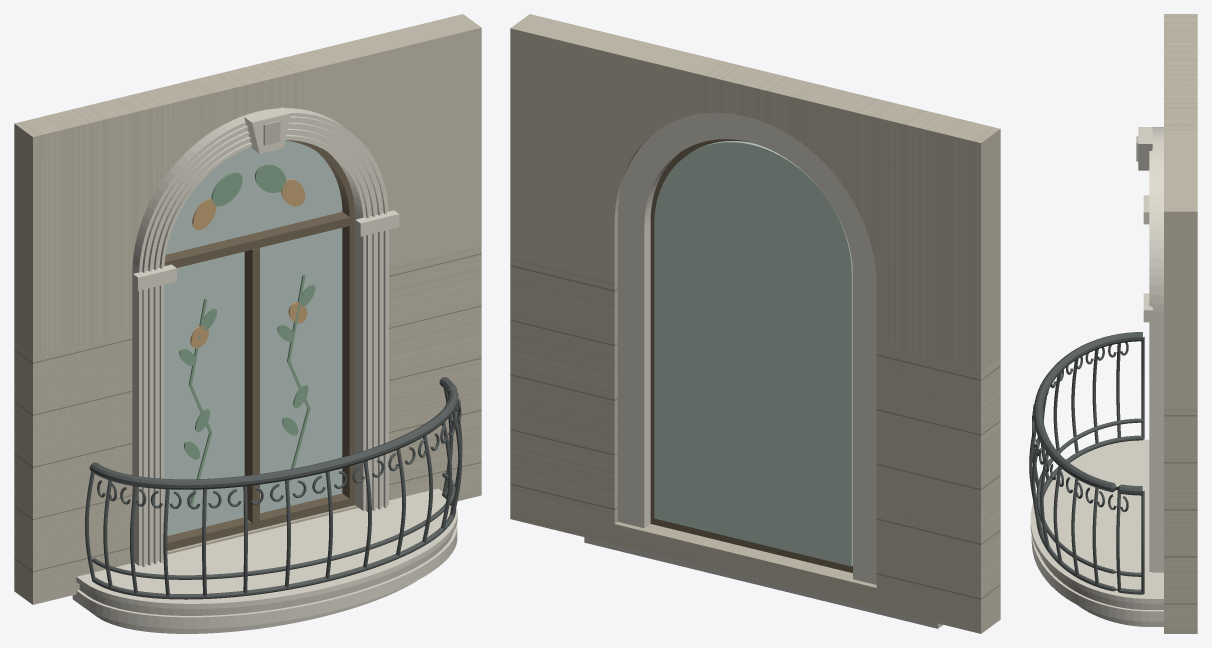
The model's file is dongping-lane-one-bowed-balcony-near.glb.
3 renders of one model, left to right at view 1: azimuth 30°, elevation 25°; view 2: azimuth 150°, elevation 25°; view 3: azimuth 270°, elevation 25°, orthographic. The views are drawn at different scales.
Parts seen in each view (by area): view 1: 东平路住宅弧形铁阳台与彩玻圆首门; view 2: 东平路住宅弧形铁阳台与彩玻圆首门; view 3: 东平路住宅弧形铁阳台与彩玻圆首门.
Boxes of the visible parts, x1,y1,x2,y2 form: 东平路住宅弧形铁阳台与彩玻圆首门: [14, 14, 481, 633]; 东平路住宅弧形铁阳台与彩玻圆首门: [510, 14, 1000, 633]; 东平路住宅弧形铁阳台与彩玻圆首门: [1029, 14, 1197, 633].
Size of the model in its own units: 2.64 by 2.74 by 0.9515.
Materials: 8 (1 with a texture image).
